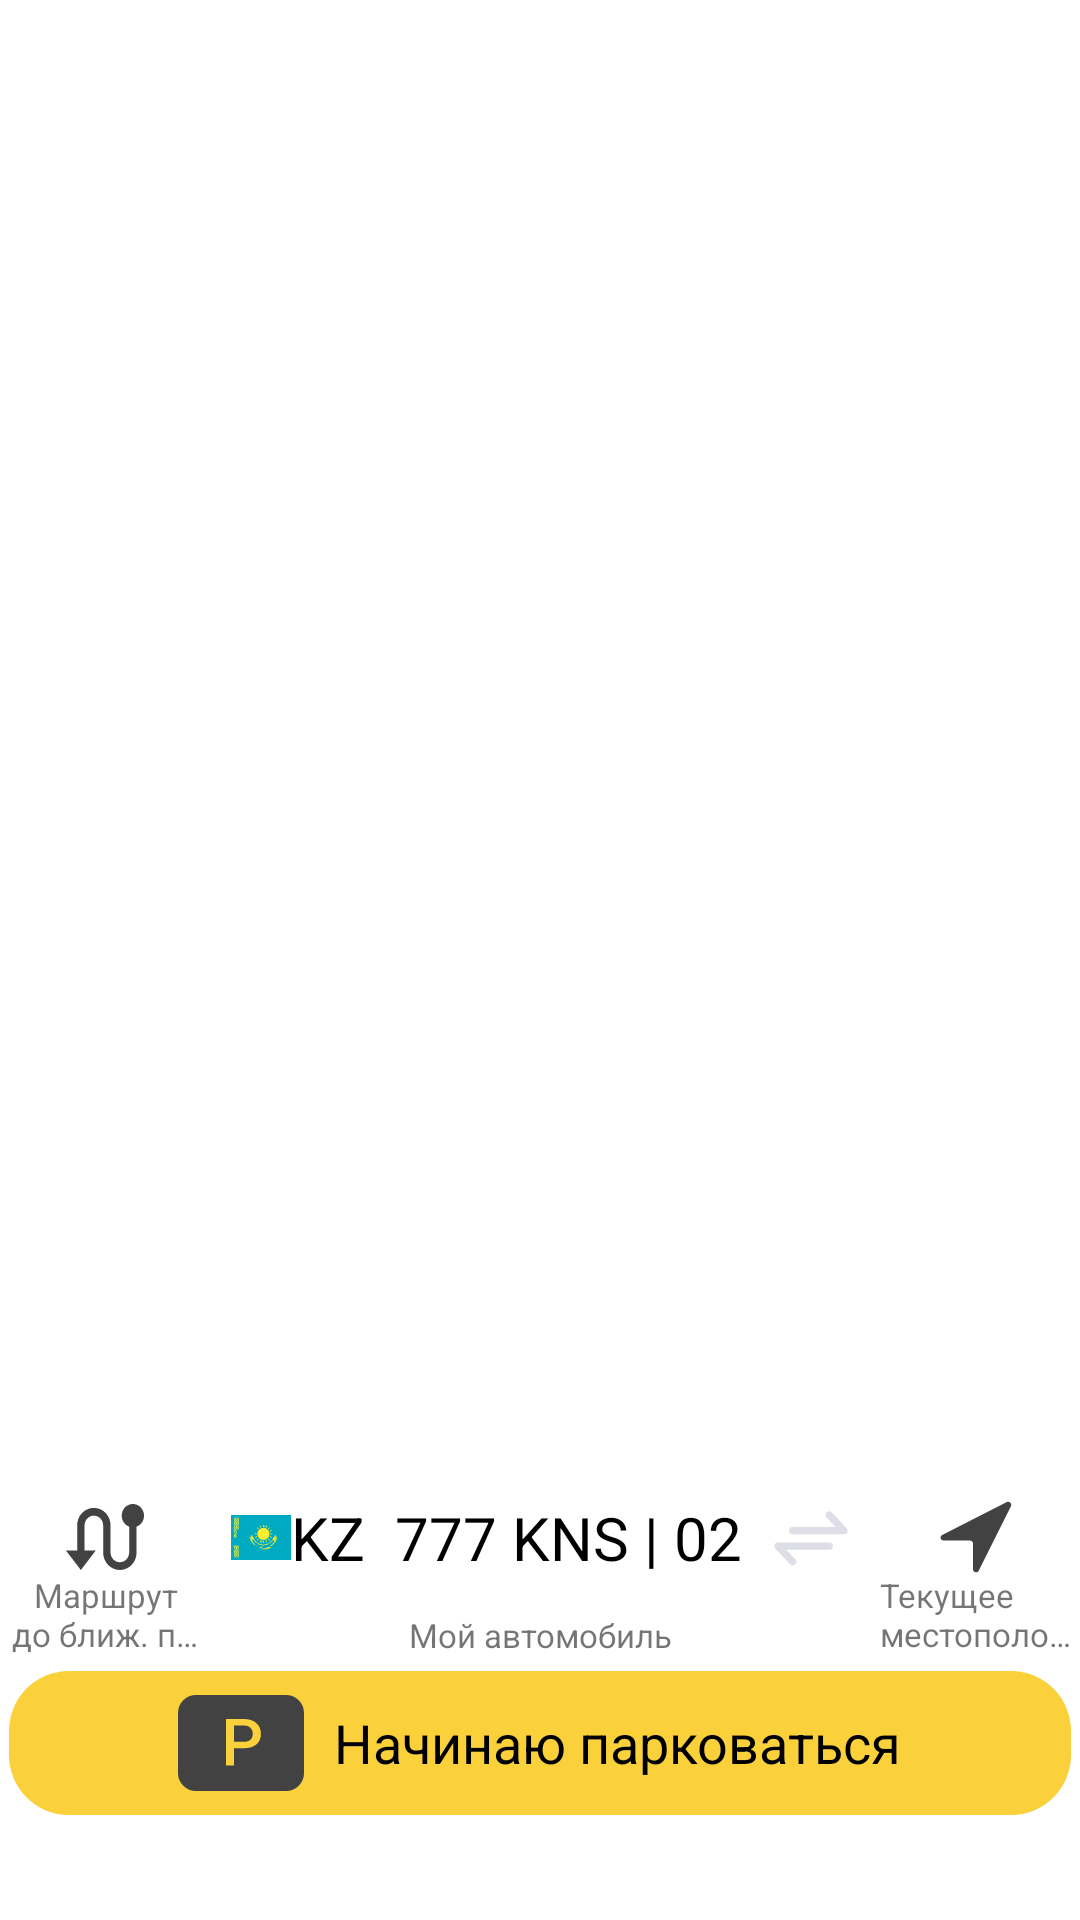

Screen size 1080x1920. Icon name, then its box in pixels as (x1, y1, x2, y2):
location: (940, 1501, 1012, 1573)
parking symbol: (178, 1695, 304, 1791)
